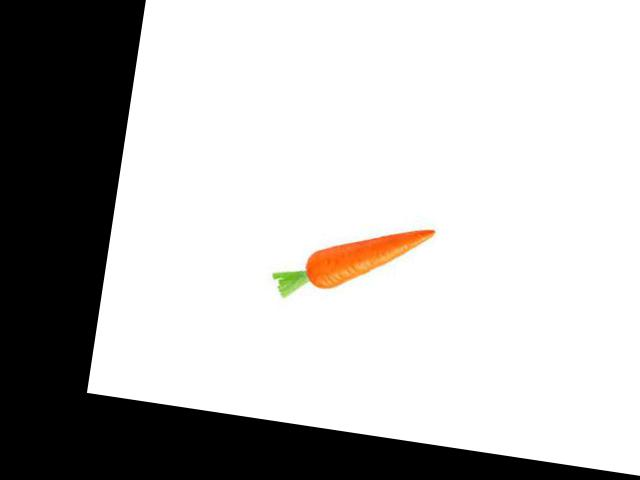carrot: (300, 204, 439, 304)
